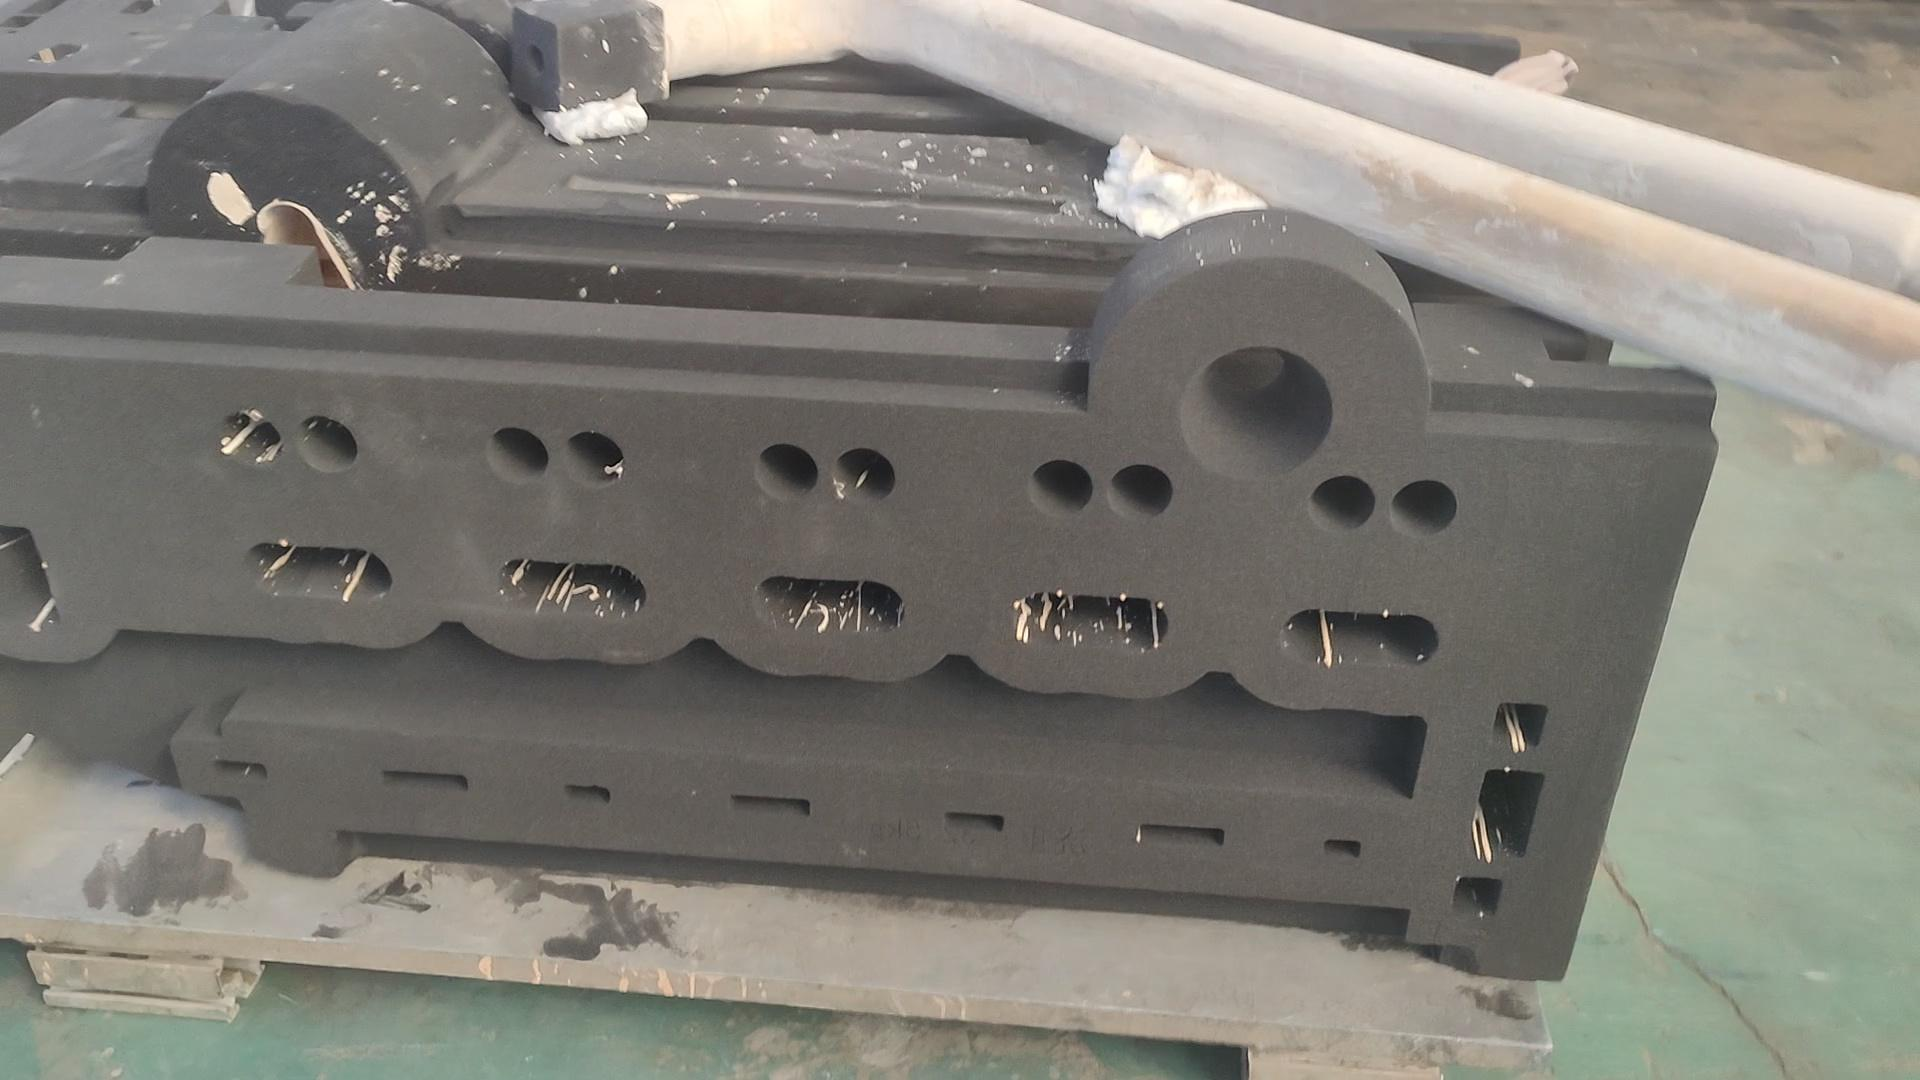pouring hole: (1179, 345, 1332, 483)
